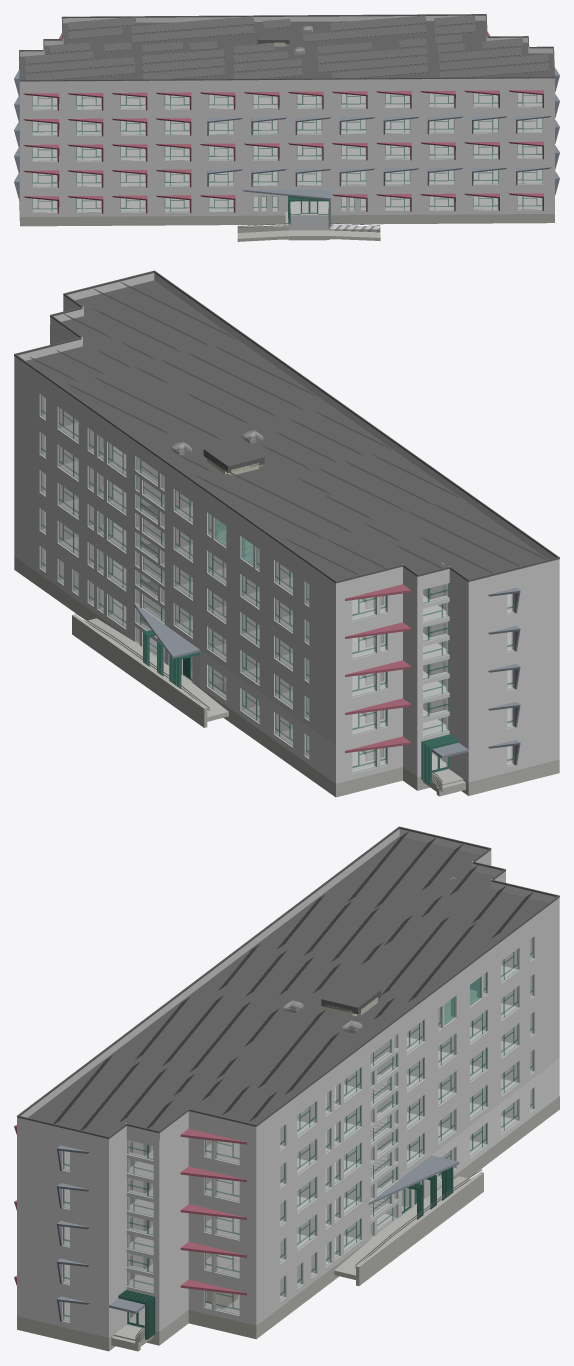
The picture shows the model from 3 angles, top to bottom: view 1: azimuth 30°, elevation 25°; view 2: azimuth 150°, elevation 25°; view 3: azimuth 270°, elevation 25°; orthographic projection. The views are drawn at different scales.
Parts seen in each view (by area): view 1: 0qFjruy0XgjnFGYcKqEPMJ, 27r23QDpLe8I2pqLaNxp1w, 0K7M2jfc6nST9Q7MXy9Irs, 3QXrJ1d6AAOnxto2fNNlxe, 3nhtKbNHxJqQLY52xChfjD, 0jslk0yobDUaFNTV0$VWIx, 2YeE_yZoMId99EkBLmj2kJ, 17Dk$t8KUTwywuE6O0fesL, 1t7cRInv0dTcqfhYXi1$mk, 0yAEwlU8wCSwlZbMFNDBMf, 3$tOkpj6DD13HluauyNzso, 1cbD6RpkDcG7VNo_82Vztk (+40 smaller); view 2: 0qFjruy0XgjnFGYcKqEPMJ, 3fBLEebN0kN6xGCvJZZGb6, 3bqY_VkqBlU25u8uOJQMQQ, 28K0gksUlE7PxpbkwVNXNr, 0xrYtYnQsVr4BzOX$eOxFU, 0Vja0nqn1KTjNeTbPFOum5, 2SN7ZOEuyu80OJq5WtdGGv, 1T6K2ywQiP1w2D8k0ImLPW, 2Ytja_wQDZU$YmNzQnp67f, 0k_LF08e7LKXr9$qCaafZa, 3wmxIf7a3Zszu9lGX8msKS, 2b6DmlSWoIVe1nnpaek13q (+50 smaller); view 3: 0qFjruy0XgjnFGYcKqEPMJ, 3fBLEebN0kN6xGCvJZZGb6, 3bqY_VkqBlU25u8uOJQMQQ, 28K0gksUlE7PxpbkwVNXNr, 33PjOHhjTvfifVd$V4DPQT, 0IKJVDEANDGJG5UhF96u42, 2KB0XmJSGsvRoHXE7E2Xkt, 2ywOoY9LS0ey1pSVpiJDEk, 144RL9uNC9sLz8JS6S2fGq, 0k_LF08e7LKXr9$qCaafZa, 3wmxIf7a3Zszu9lGX8msKS, 2b6DmlSWoIVe1nnpaek13q (+57 smaller).
Boxes of the visible parts, x1,y1,x2,y2 form: 0qFjruy0XgjnFGYcKqEPMJ: (20,20,553,79); 27r23QDpLe8I2pqLaNxp1w: (20,190,287,217); 0K7M2jfc6nST9Q7MXy9Irs: (331,83,554,112); 3QXrJ1d6AAOnxto2fNNlxe: (331,188,554,215); 3nhtKbNHxJqQLY52xChfjD: (331,162,554,189); 0jslk0yobDUaFNTV0$VWIx: (32,195,542,213); 2YeE_yZoMId99EkBLmj2kJ: (32,93,542,108); 17Dk$t8KUTwywuE6O0fesL: (32,144,542,159); 1t7cRInv0dTcqfhYXi1$mk: (32,170,542,185); 0yAEwlU8wCSwlZbMFNDBMf: (32,118,542,133); 3$tOkpj6DD13HluauyNzso: (20,85,199,114); 1cbD6RpkDcG7VNo_82Vztk: (20,164,199,191); 0qFjruy0XgjnFGYcKqEPMJ: (26,280,548,580); 3fBLEebN0kN6xGCvJZZGb6: (166,471,335,630); 3bqY_VkqBlU25u8uOJQMQQ: (166,588,335,745); 28K0gksUlE7PxpbkwVNXNr: (200,650,335,783); 0xrYtYnQsVr4BzOX$eOxFU: (468,566,559,630); 0Vja0nqn1KTjNeTbPFOum5: (468,683,559,744); 2SN7ZOEuyu80OJq5WtdGGv: (468,645,559,706); 1T6K2ywQiP1w2D8k0ImLPW: (468,607,559,667); 2Ytja_wQDZU$YmNzQnp67f: (468,721,559,782); 0k_LF08e7LKXr9$qCaafZa: (72,614,207,727); 3wmxIf7a3Zszu9lGX8msKS: (14,556,335,797); 2b6DmlSWoIVe1nnpaek13q: (14,518,83,604); 0qFjruy0XgjnFGYcKqEPMJ: (28,836,548,1136); 3fBLEebN0kN6xGCvJZZGb6: (400,905,559,1065); 3bqY_VkqBlU25u8uOJQMQQ: (400,1021,559,1178); 28K0gksUlE7PxpbkwVNXNr: (432,1059,559,1188); 33PjOHhjTvfifVd$V4DPQT: (17,1125,109,1186); 0IKJVDEANDGJG5UhF96u42: (17,1241,108,1299); 2KB0XmJSGsvRoHXE7E2Xkt: (17,1203,108,1262); 2ywOoY9LS0ey1pSVpiJDEk: (17,1165,108,1224); 144RL9uNC9sLz8JS6S2fGq: (17,1278,108,1337); 0k_LF08e7LKXr9$qCaafZa: (356,1172,483,1285); 3wmxIf7a3Zszu9lGX8msKS: (256,1096,559,1338); 2b6DmlSWoIVe1nnpaek13q: (256,1239,321,1325).
Size of the model in its own units: 60.47 by 19.74 by 43.95.
